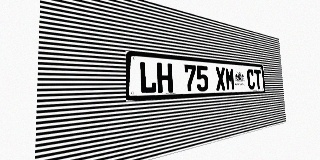5: (196, 65, 209, 92)
7: (183, 64, 197, 92)
C: (247, 69, 255, 90)
H: (157, 62, 173, 93)
L: (139, 61, 157, 94)
M: (225, 67, 235, 90)
T: (254, 69, 262, 89)
X: (215, 67, 226, 91)
